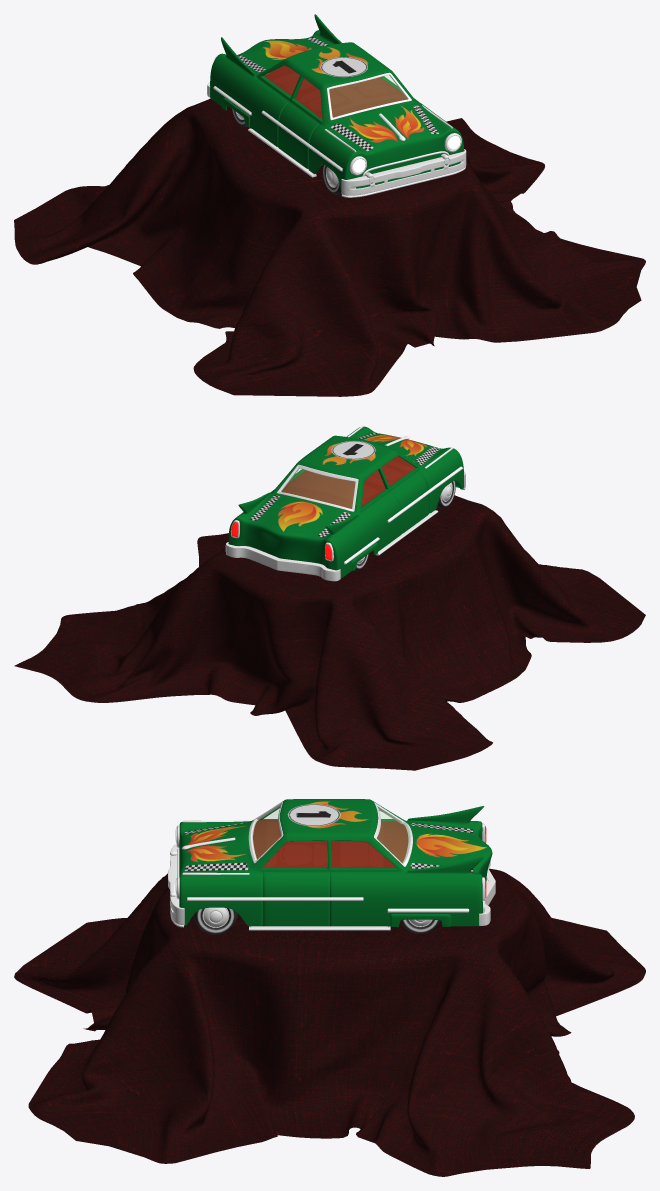
Rendered from toy-car.glb.
The picture shows the model from 3 angles, top to bottom: view 1: azimuth 30°, elevation 25°; view 2: azimuth 150°, elevation 25°; view 3: azimuth 270°, elevation 25°; orthographic projection. The views are drawn at different scales.
Visible parts, largest first — view 1: Fabric, ToyCar, Glass; view 2: Fabric, ToyCar, Glass; view 3: Fabric, ToyCar, Glass.
Part boxes in pixels (x1=…): Fabric: x1=14, y1=98, x2=645, y2=396; ToyCar: x1=207, y1=14, x2=466, y2=197; Glass: x1=329, y1=75, x2=407, y2=116; Fabric: x1=14, y1=495, x2=645, y2=770; ToyCar: x1=225, y1=425, x2=465, y2=581; Glass: x1=282, y1=468, x2=354, y2=508; Fabric: x1=14, y1=868, x2=645, y2=1176; ToyCar: x1=168, y1=799, x2=495, y2=934; Glass: x1=252, y1=805, x2=409, y2=862.
Bounding box in the file's own units: 0.0734 × 0.0288 × 0.074.
Materials: 3 (2 with a texture image).
